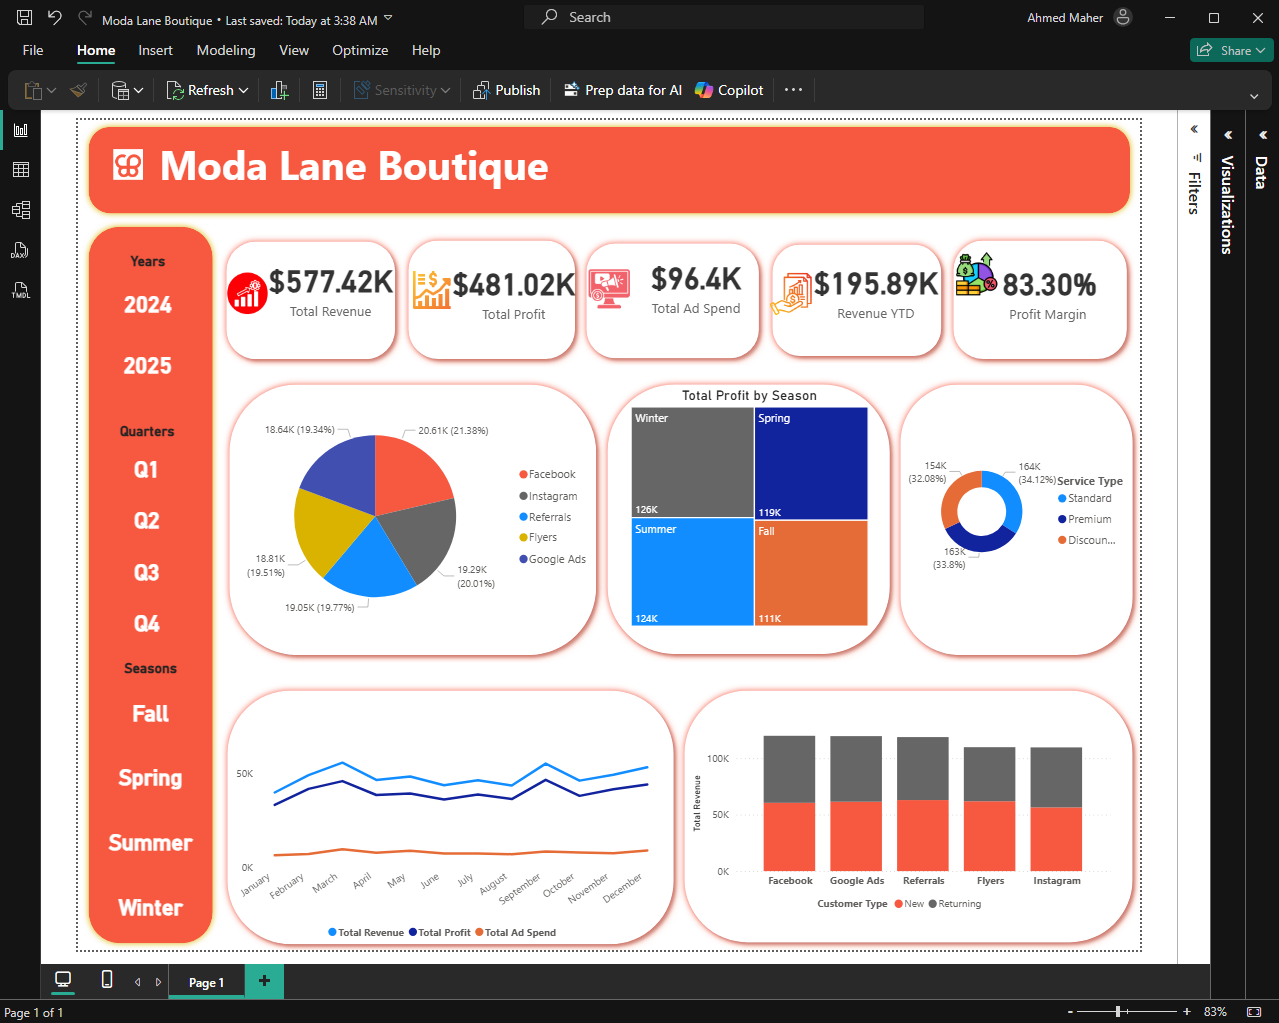

Layout of this report page (visuals, bound fields, positions):
{"tool":"powerbi","page":{"name":"Page 1","canvas":[1280,1000],"ordinal":0},"visuals":[{"type":"shape","box":[4.7,0,1270.7,120.6],"z":0,"group":"g1"},{"type":"image","box":[37.2,18.7,46.1,71.2],"z":1000,"group":"g1"},{"type":"shape","box":[4.7,120.6,165.5,879.4],"z":1000,"group":"g2"},{"type":"shape","box":[827.4,140.7,221.3,152.4],"z":1000,"group":"g11"},{"type":"group","id":"g1","title":"Group 12","box":[4.7,0,1270.7,120.6],"z":1500},{"type":"textbox","box":[92.2,15.4,569.7,88.7],"z":2000},{"type":"shape","box":[1046.1,136,227,160.8],"z":2000,"group":"g12"},{"type":"group","id":"g2","title":"Group 1","box":[4.7,120.6,165.5,879.4],"z":3000},{"type":"shape","box":[604.2,139.1,225.8,156.3],"z":3000,"group":"g10"},{"type":"shape","box":[389.1,135.9,218.7,160.8],"z":4000,"group":"g9"},{"type":"group","id":"g3","title":"Group 2","box":[170.6,677.8,555.6,323.9],"z":4000},{"type":"shape","box":[170.2,136.9,221.2,159.8],"z":5000,"group":"g8"},{"type":"group","id":"g4","title":"Group 3","box":[722.2,678.5,557.9,321.5],"z":5000},{"type":"card","fields":{"Values":["Sheet1.Total Revenue"]},"box":[204.8,132.4,199.4,138.9],"z":6000,"group":"g8"},{"type":"group","id":"g5","title":"Group 4","box":[173.8,309.7,459.8,344],"z":6000},{"type":"card","fields":{"Values":["Sheet1.Total Ad Spend"]},"box":[642.9,134.8,205.1,125.7],"z":7000,"group":"g10"},{"type":"group","id":"g6","title":"Group 5","box":[629,310.1,358.2,342.8],"z":7000},{"type":"card","fields":{"Values":["Sheet1.Total Profit"]},"box":[445.5,137.2,158.6,136],"z":8000,"group":"g9"},{"type":"group","id":"g7","title":"Group 6","box":[982.3,309.7,297.9,344],"z":8000},{"type":"group","id":"g8","title":"Group 7","box":[170.2,132.4,234,164.3],"z":9000},{"type":"group","id":"g9","title":"Group 8","box":[389.1,135.9,218.7,160.8],"z":10000},{"type":"card","fields":{"Values":["Sheet1.Profit Margin %"]},"box":[1087.1,123,167.8,165.5],"z":11000,"group":"g12"},{"type":"group","id":"g10","title":"Group 9","box":[604.2,134.8,243.5,160.8],"z":11000},{"type":"group","id":"g11","title":"Group 10","box":[827.3,138.3,234,154.8],"z":12000},{"type":"card","fields":{"Values":["Sheet1.Revenue YTD"]},"box":[861.4,138.3,199.9,131.3],"z":12000,"group":"g11"},{"type":"group","id":"g12","title":"Group 11","box":[1046.1,123,227,173.8],"z":13000},{"type":"shape","box":[173.8,309.7,459.8,344],"z":13000,"group":"g5"},{"type":"shape","box":[982.3,309.7,297.8,344],"z":13000,"group":"g7"},{"type":"donutChart","fields":{"Category":["Sheet1.Service Type"],"Y":["Sheet1.Total Profit"]},"box":[993,309.7,287.2,324.2],"z":14000,"group":"g7"},{"type":"pieChart","fields":{"Category":["Sheet1.Channel"],"Y":["Sheet1.Total Ad Spend"]},"box":[180.9,333.3,445.6,287.2],"z":14000,"group":"g5"},{"type":"image","box":[175.1,145.2,59.4,126.1],"z":15000,"group":"g8"},{"type":"shape","box":[629,310.1,358.2,342.8],"z":15000,"group":"g6"},{"type":"image","box":[394.7,151.2,61.7,106.4],"z":16000,"group":"g9"},{"type":"treemap","fields":{"Group":["Sheet1.Season"],"Values":["Sheet1.Total Profit"]},"box":[661,321.6,295.5,293.1],"z":16000,"group":"g6"},{"type":"image","box":[609.6,158,62.8,91],"z":17000,"group":"g10"},{"type":"image","box":[827.3,156.1,62,106.3],"z":18000,"group":"g11"},{"type":"image","box":[1052.3,136.9,62.5,95.9],"z":19000,"group":"g12"},{"type":"shape","box":[170.6,677.8,555.6,323.9],"z":19000,"group":"g3"},{"type":"shape","box":[722.2,678.5,557.9,321.5],"z":19000,"group":"g4"},{"type":"columnChart","fields":{"Category":["Sheet1.Channel"],"Y":["Sheet1.Total Revenue"],"Series":["Sheet1.Customer Type"]},"box":[734.9,727.6,514.2,235.2],"z":20000,"group":"g4"},{"type":"lineChart","fields":{"Category":["DateTable.Month"],"Y":["Sheet1.Total Revenue","Sheet1.Total Profit","Sheet1.Total Ad Spend"]},"box":[174.2,750.6,532.5,246.2],"z":20000,"group":"g3"},{"type":"listSlicer","title":"Years ","fields":{"Values":["DateTable.Date.Variation.Date Hierarchy.Year"]},"box":[23.5,160.2,120.4,179],"z":24000,"group":"g2"},{"type":"listSlicer","title":"Seasons","fields":{"Values":["Sheet1.Season"]},"box":[22.3,650.7,129.1,344.2],"z":25000,"group":"g2"},{"type":"listSlicer","title":"Quarters","fields":{"Values":["Sheet1.Quarter "]},"box":[29.8,365,106.6,278.8],"z":26000,"group":"g2"}]}

Visuals, with their boxes on the page's 1280x1000 design canvas (x1, y1, x2, y2). These are canvas units, not pixel positions in the 1279x1023 screenshot, which may show the page scaled, cropped or inside an application window:
shape: {"left": 5, "top": 0, "right": 1275, "bottom": 121}
image: {"left": 37, "top": 19, "right": 83, "bottom": 90}
shape: {"left": 5, "top": 121, "right": 170, "bottom": 1000}
shape: {"left": 827, "top": 141, "right": 1049, "bottom": 293}
"Group 12" group: {"left": 5, "top": 0, "right": 1275, "bottom": 121}
textbox: {"left": 92, "top": 15, "right": 662, "bottom": 104}
shape: {"left": 1046, "top": 136, "right": 1273, "bottom": 297}
"Group 1" group: {"left": 5, "top": 121, "right": 170, "bottom": 1000}
shape: {"left": 604, "top": 139, "right": 830, "bottom": 295}
shape: {"left": 389, "top": 136, "right": 608, "bottom": 297}
"Group 2" group: {"left": 171, "top": 678, "right": 726, "bottom": 1002}
shape: {"left": 170, "top": 137, "right": 391, "bottom": 297}
"Group 3" group: {"left": 722, "top": 678, "right": 1280, "bottom": 1000}
card - Sheet1.Total Revenue: {"left": 205, "top": 132, "right": 404, "bottom": 271}
"Group 4" group: {"left": 174, "top": 310, "right": 634, "bottom": 654}
card - Sheet1.Total Ad Spend: {"left": 643, "top": 135, "right": 848, "bottom": 260}
"Group 5" group: {"left": 629, "top": 310, "right": 987, "bottom": 653}
card - Sheet1.Total Profit: {"left": 446, "top": 137, "right": 604, "bottom": 273}
"Group 6" group: {"left": 982, "top": 310, "right": 1280, "bottom": 654}
"Group 7" group: {"left": 170, "top": 132, "right": 404, "bottom": 297}
"Group 8" group: {"left": 389, "top": 136, "right": 608, "bottom": 297}
card - Sheet1.Profit Margin %: {"left": 1087, "top": 123, "right": 1255, "bottom": 288}
"Group 9" group: {"left": 604, "top": 135, "right": 848, "bottom": 296}
"Group 10" group: {"left": 827, "top": 138, "right": 1061, "bottom": 293}
card - Sheet1.Revenue YTD: {"left": 861, "top": 138, "right": 1061, "bottom": 270}
"Group 11" group: {"left": 1046, "top": 123, "right": 1273, "bottom": 297}
shape: {"left": 174, "top": 310, "right": 634, "bottom": 654}
shape: {"left": 982, "top": 310, "right": 1280, "bottom": 654}
donutChart - Sheet1.Service Type x Sheet1.Total Profit: {"left": 993, "top": 310, "right": 1280, "bottom": 634}
pieChart - Sheet1.Channel x Sheet1.Total Ad Spend: {"left": 181, "top": 333, "right": 626, "bottom": 620}
image: {"left": 175, "top": 145, "right": 234, "bottom": 271}
shape: {"left": 629, "top": 310, "right": 987, "bottom": 653}
image: {"left": 395, "top": 151, "right": 456, "bottom": 258}
treemap - Sheet1.Season x Sheet1.Total Profit: {"left": 661, "top": 322, "right": 956, "bottom": 615}
image: {"left": 610, "top": 158, "right": 672, "bottom": 249}
image: {"left": 827, "top": 156, "right": 889, "bottom": 262}
image: {"left": 1052, "top": 137, "right": 1115, "bottom": 233}
shape: {"left": 171, "top": 678, "right": 726, "bottom": 1002}
shape: {"left": 722, "top": 678, "right": 1280, "bottom": 1000}
columnChart - Sheet1.Channel x Sheet1.Total Revenue: {"left": 735, "top": 728, "right": 1249, "bottom": 963}
lineChart - DateTable.Month x Sheet1.Total Revenue: {"left": 174, "top": 751, "right": 707, "bottom": 997}
"Years " listSlicer: {"left": 24, "top": 160, "right": 144, "bottom": 339}
"Seasons" listSlicer: {"left": 22, "top": 651, "right": 151, "bottom": 995}
"Quarters" listSlicer: {"left": 30, "top": 365, "right": 136, "bottom": 644}
